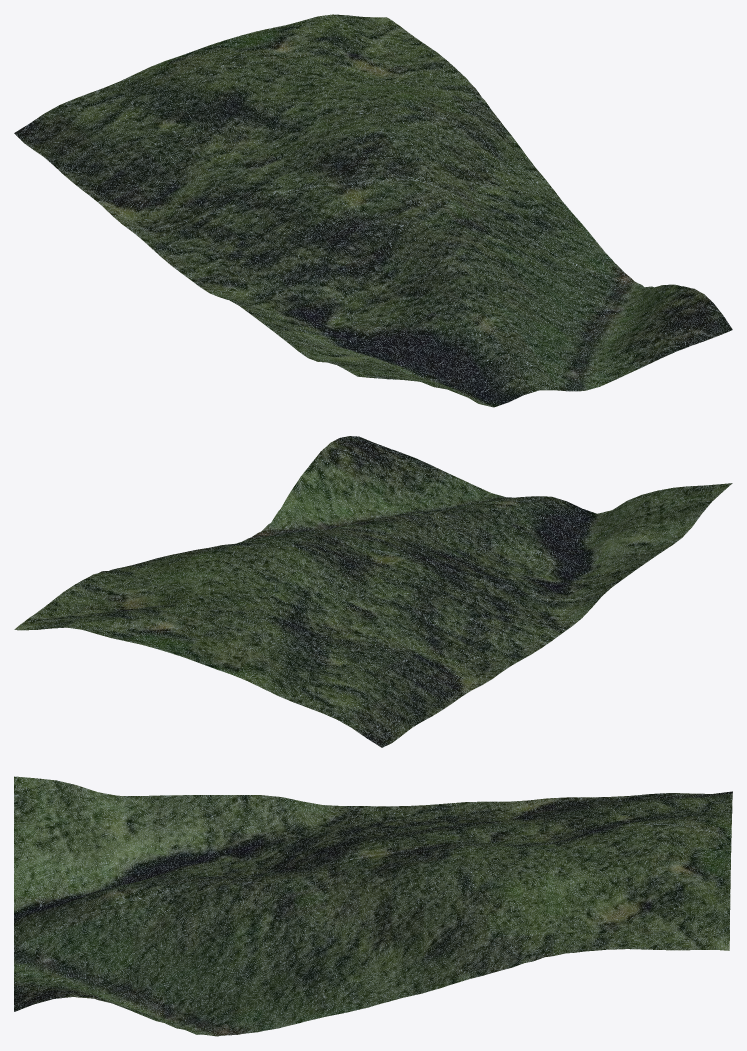
The model's file is SaoJoseAusentes1a.dae.
3 views of the same model, one above another, from view 1: azimuth 30°, elevation 25°; view 2: azimuth 150°, elevation 25°; view 3: azimuth 270°, elevation 25° (orthographic). The views are drawn at different scales.
Parts seen in each view (by area): view 1: SketchUp; view 2: SketchUp; view 3: SketchUp.
Boxes of the visible parts, x1,y1,x2,y2 form: SketchUp: [14, 14, 732, 407]; SketchUp: [14, 436, 732, 747]; SketchUp: [14, 776, 732, 1036].
Size of the model in its own units: 36192 by 58098 by 9897.
3 materials, 1 textured.
